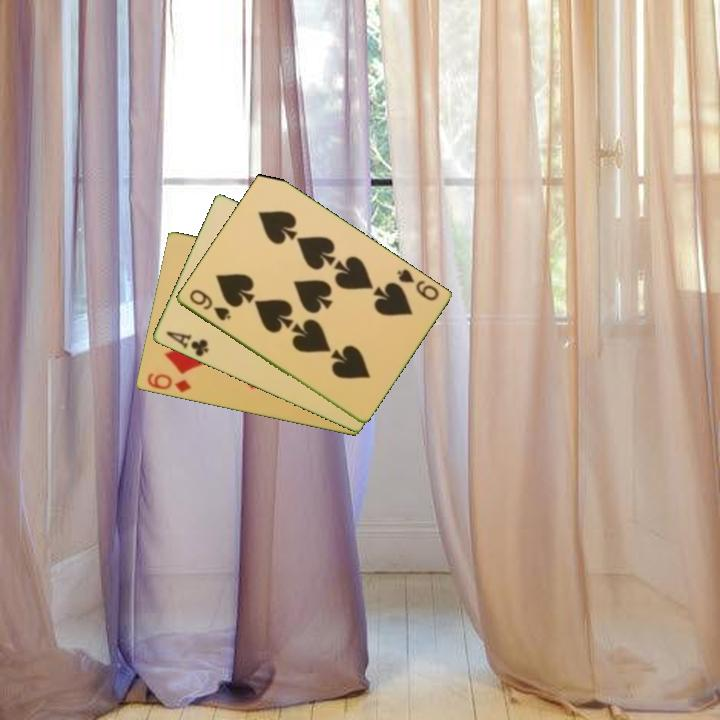6d: (143, 370, 193, 396)
9s: (393, 265, 442, 304), (185, 286, 233, 324)
Ac: (162, 328, 211, 360)
